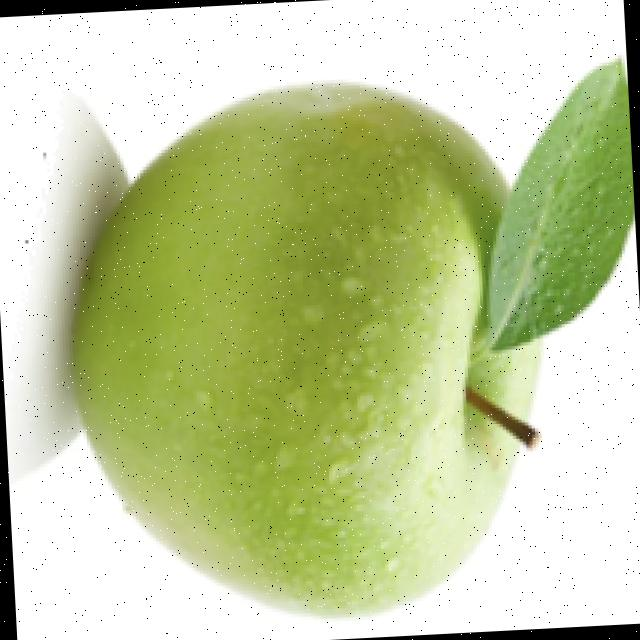apple: (8, 59, 636, 624)
